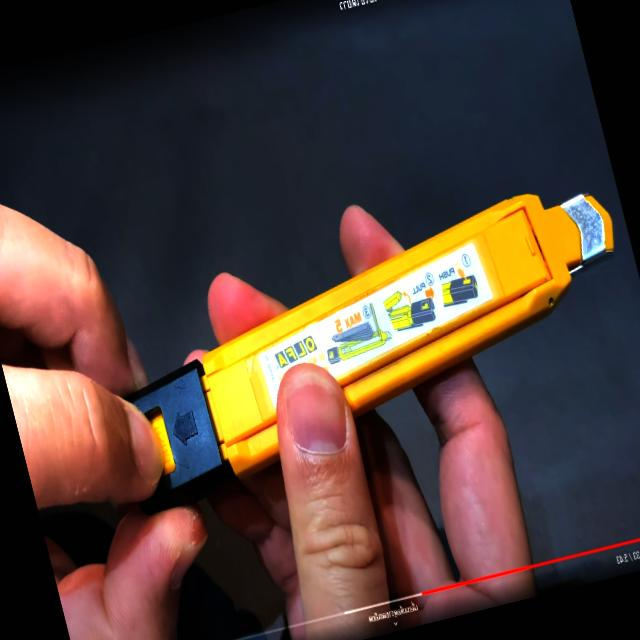cutter: (0, 127, 640, 623)
